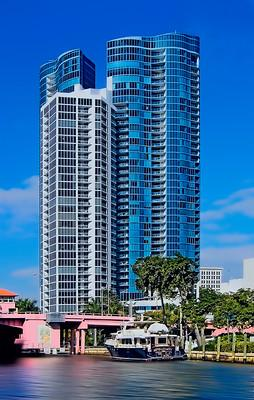building: (106, 28, 203, 315), (39, 89, 128, 318)
